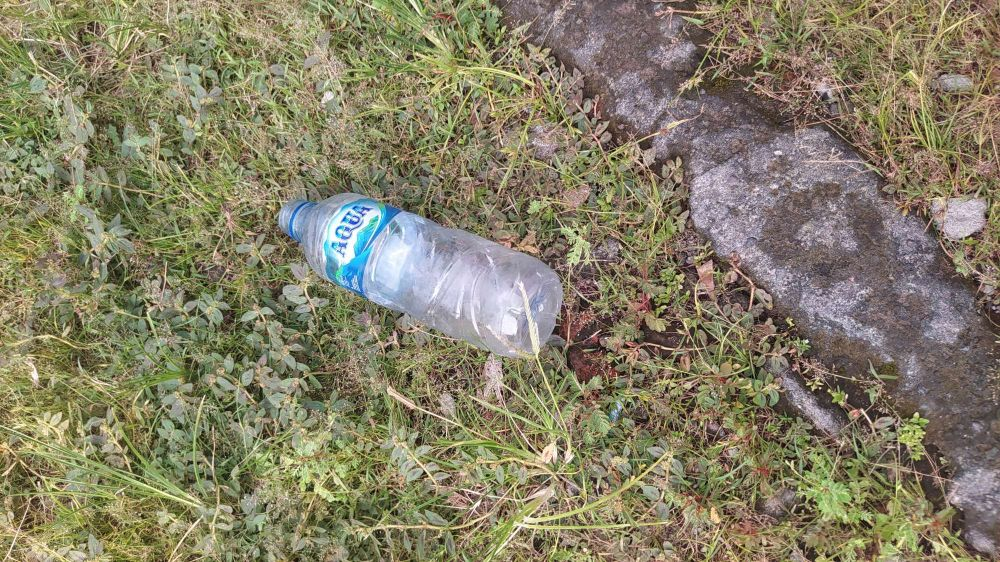botol: (262, 180, 570, 362)
